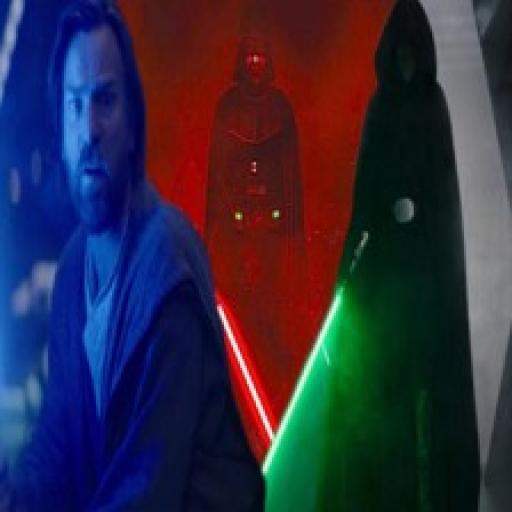human: (42, 5, 272, 512)
lightsaber: (261, 232, 374, 480)
sith saber: (208, 278, 275, 439)
